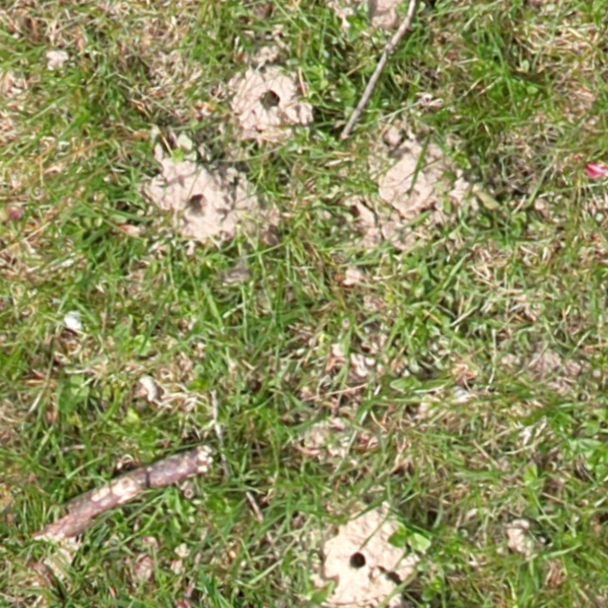nest: (320, 503, 424, 608), (151, 151, 266, 243), (369, 130, 460, 221), (225, 59, 317, 142)
